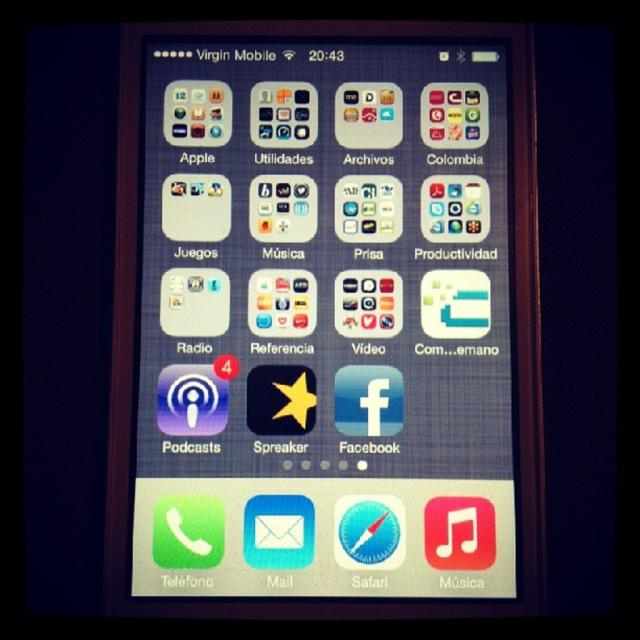Mobile-phone: (93, 1, 567, 621)
